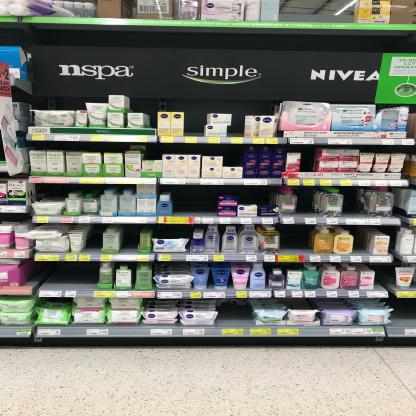Void: (34, 261, 96, 291), (276, 225, 316, 253), (176, 188, 215, 213), (220, 300, 250, 325), (151, 142, 214, 152), (392, 300, 415, 327), (236, 184, 272, 201), (35, 185, 66, 200), (301, 144, 318, 171), (347, 188, 366, 212), (86, 228, 102, 256), (156, 226, 200, 236), (186, 113, 204, 135), (352, 230, 367, 254), (124, 228, 140, 250), (223, 147, 244, 163), (302, 188, 315, 212), (378, 267, 393, 287), (232, 112, 241, 136)
